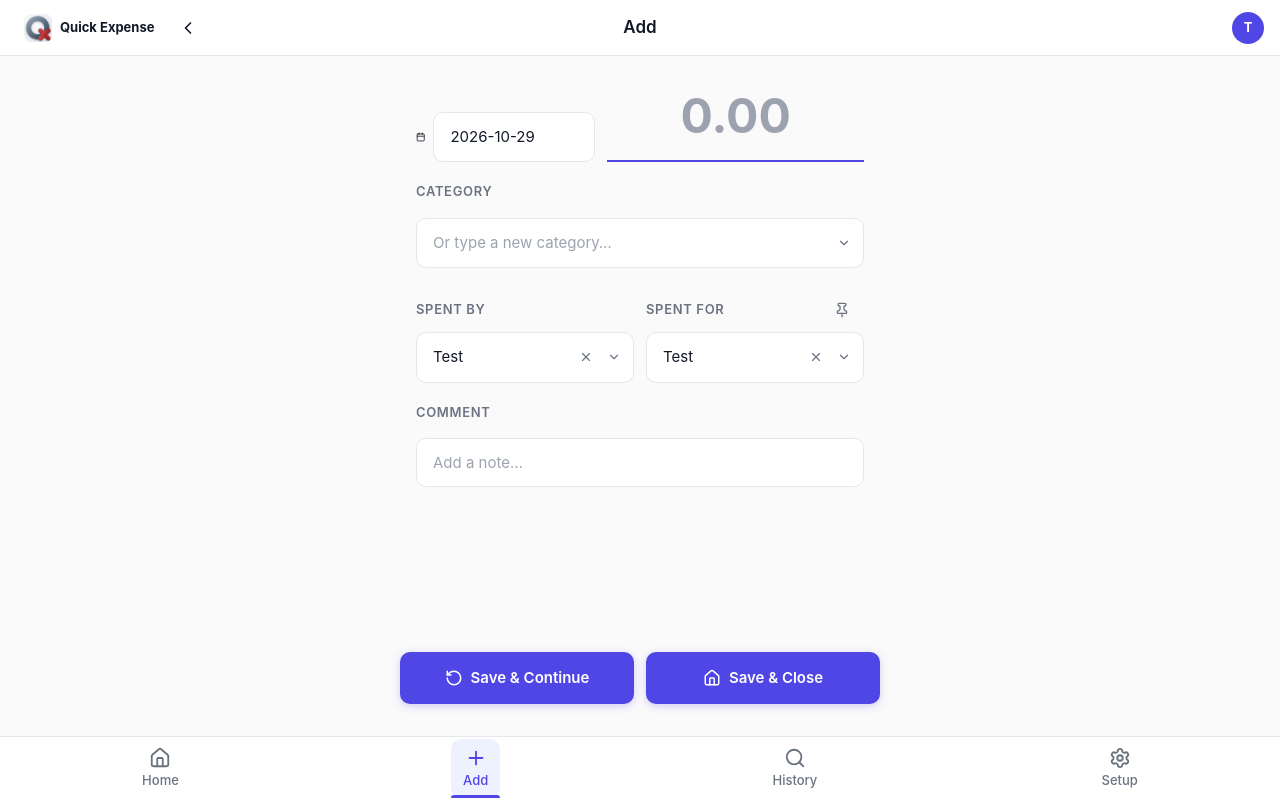
Scenario: AddExpensePage — Save & Continue field retention › B — amount fields are cleared after Save & Continue
The width and height of the screenshot is (1280, 800).
Type "10.00" into the field named "Amount in USD". click: (736,117)
box: [607,72,864,162]
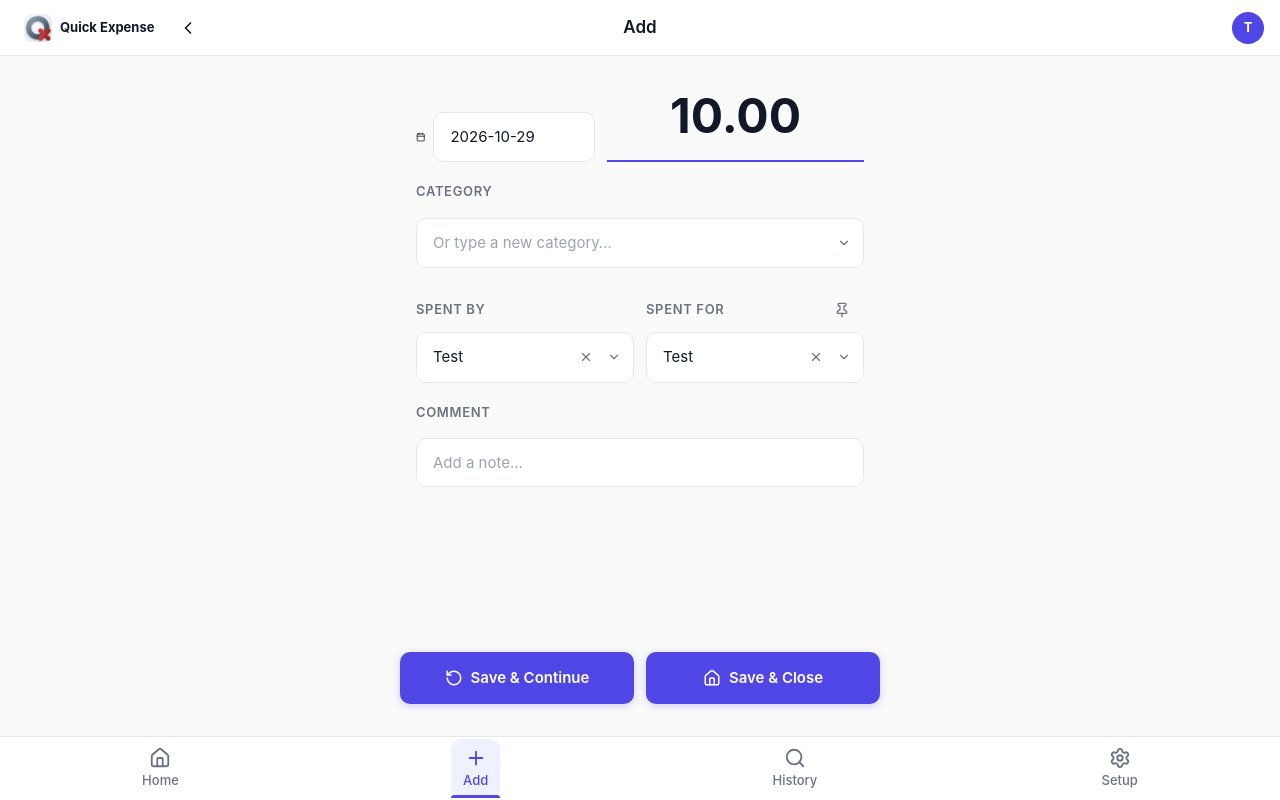
Type "Food" into the dropdown with id "category-field". click: (640,243)
box: [416,218,864,268]
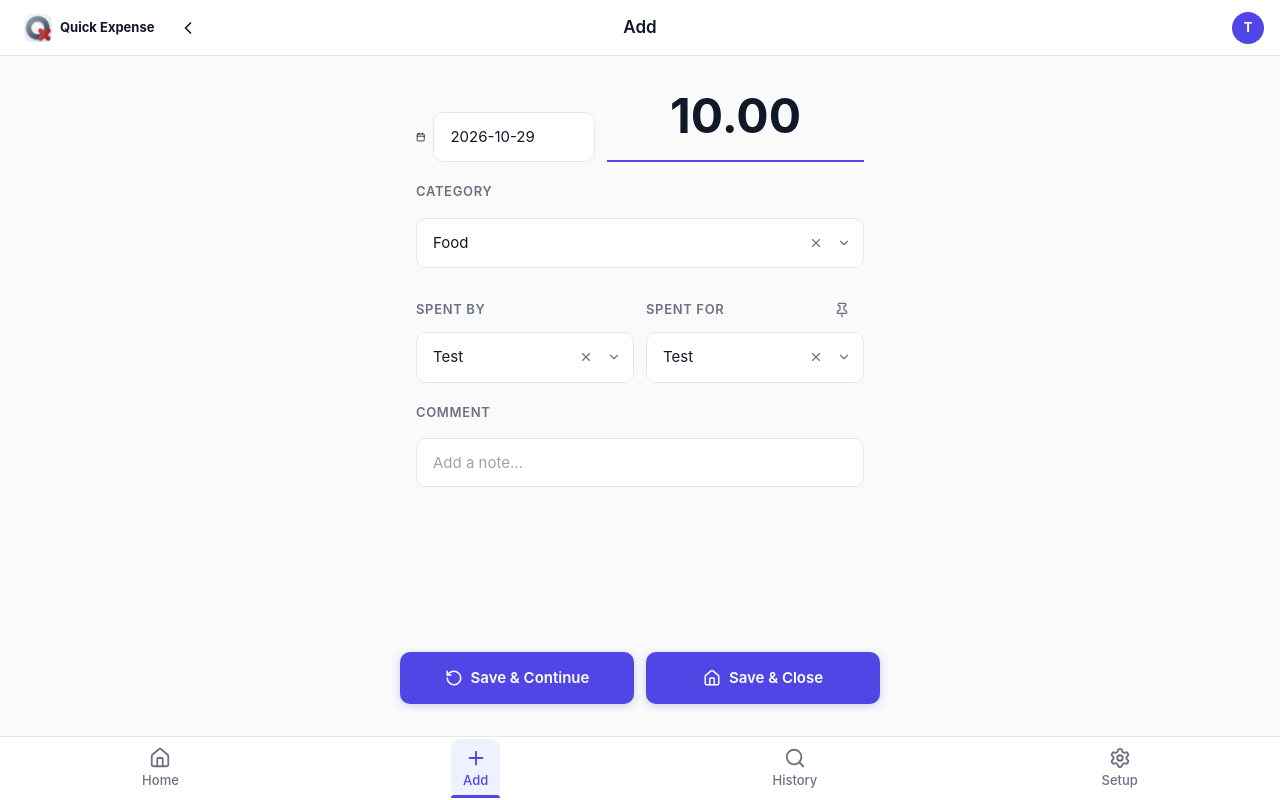
Click the button "Save & Continue". click: (517,678)
box: [400,652,634,704]
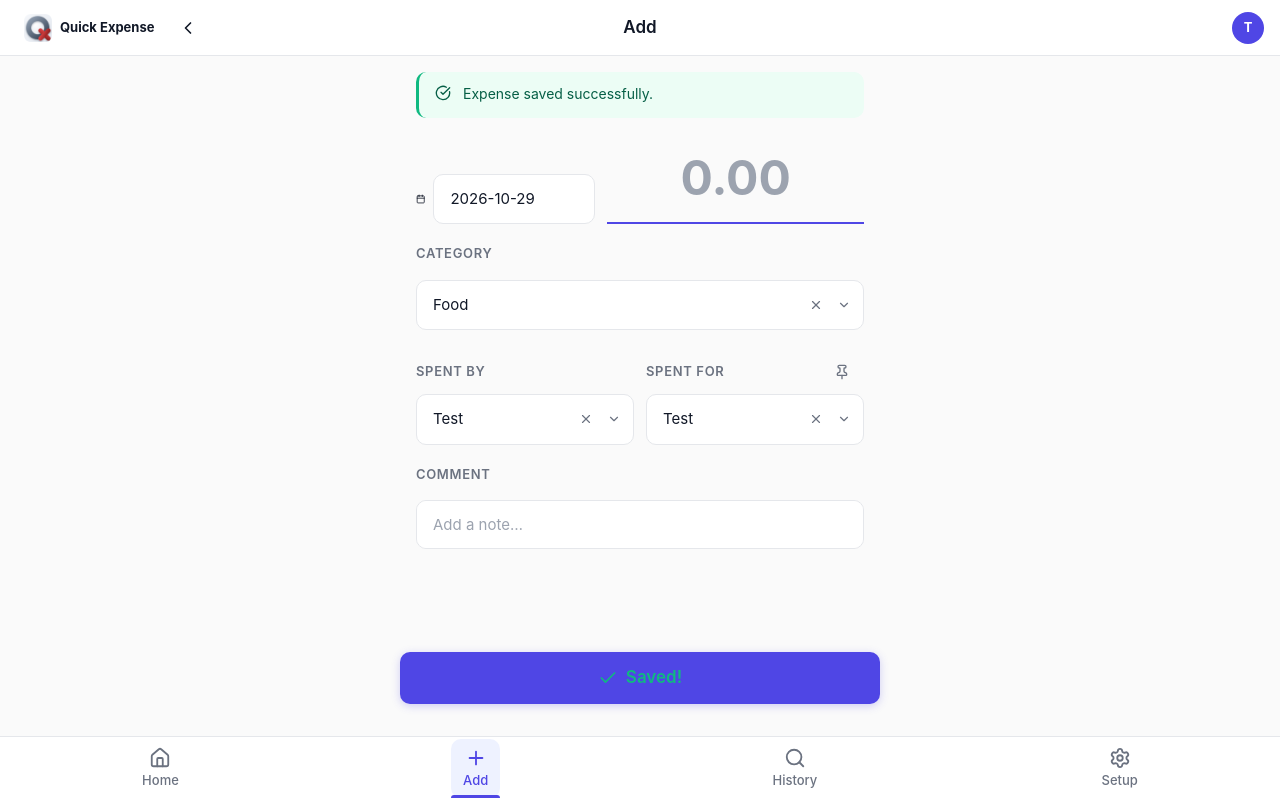
Expected: the text "Expense saved successfully." is shown, [463,85,653,102]
Expected: the field named "Amount in USD" is empty, [607,134,864,224]
